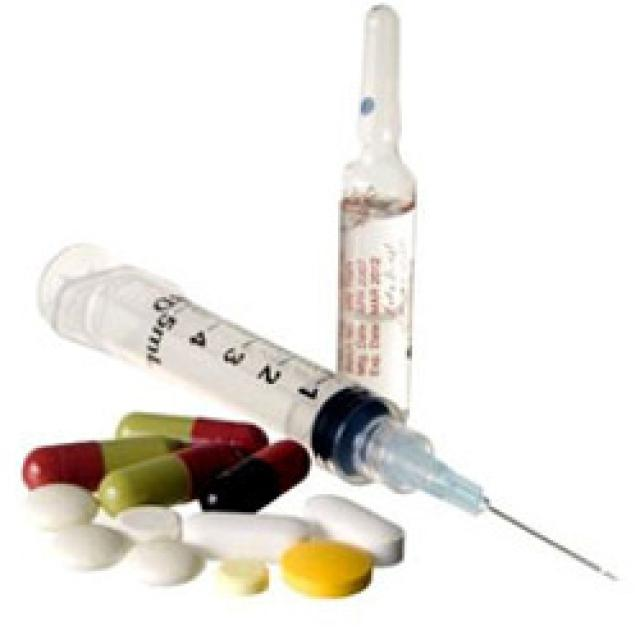B3: (312, 2, 456, 446)
